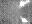person: (20, 1, 29, 7), (21, 17, 28, 23)
